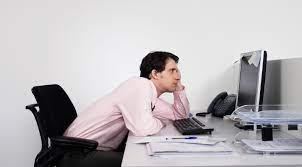Bad Sitting Posture: (52, 25, 220, 155)
